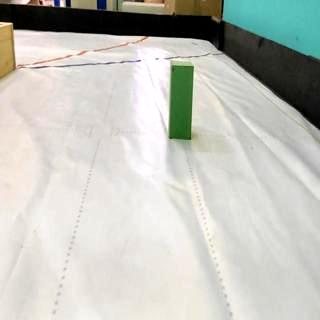greenbox: (168, 58, 194, 142)
